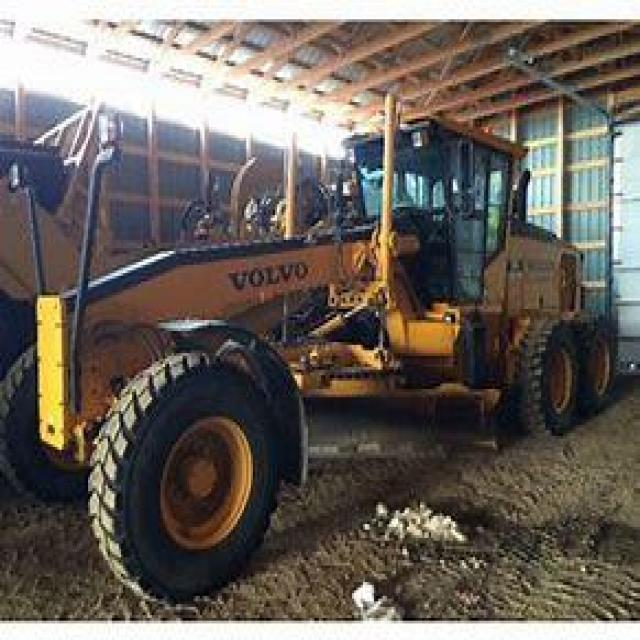Grader: (7, 85, 638, 590)
